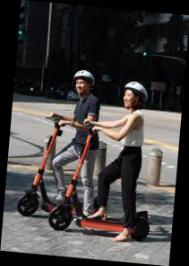helmet: (46, 72, 163, 244), (17, 64, 118, 222)
